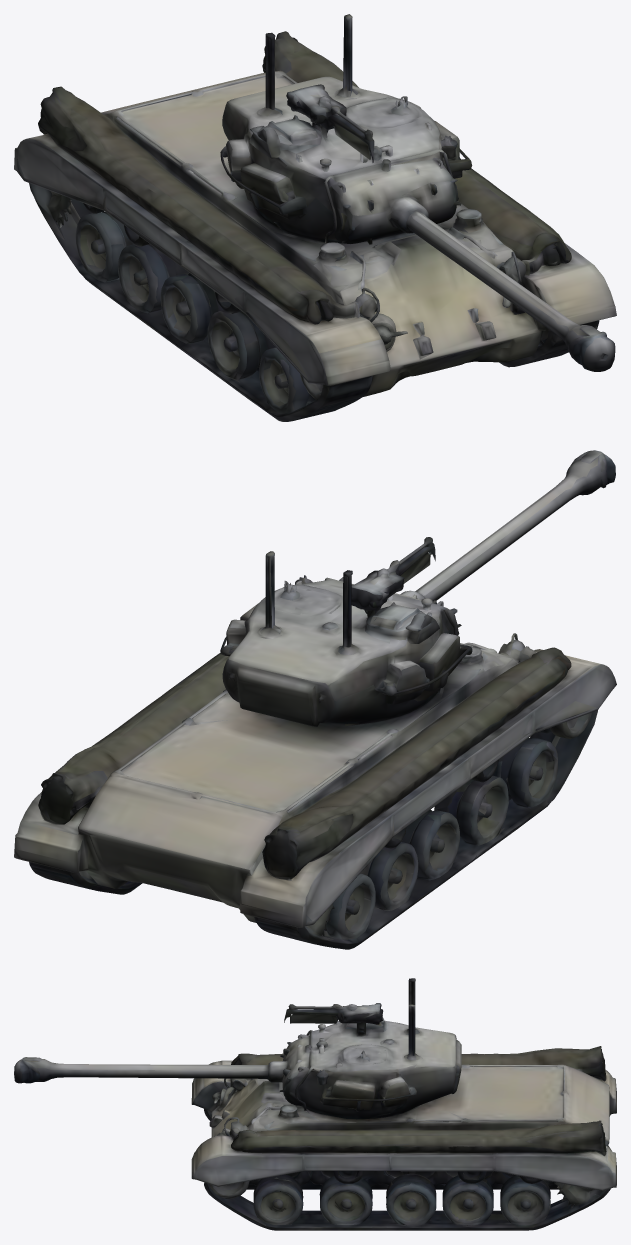
File: per_opt.glb
3 views of the same model, one above another, from view 1: azimuth 30°, elevation 25°; view 2: azimuth 150°, elevation 25°; view 3: azimuth 270°, elevation 25° (orthographic). The views are drawn at different scales.
Parts seen in each view (by area): view 1: node_0; view 2: node_0; view 3: node_0.
Part boxes in pixels (left/top/right/bottom): node_0: left=14, top=14, right=616, bottom=421; node_0: left=14, top=450, right=616, bottom=949; node_0: left=14, top=978, right=616, bottom=1230.
Bounding box in the file's own units: 0.4164 × 0.3951 × 1.11.
Materials: 1 (1 with a texture image).
